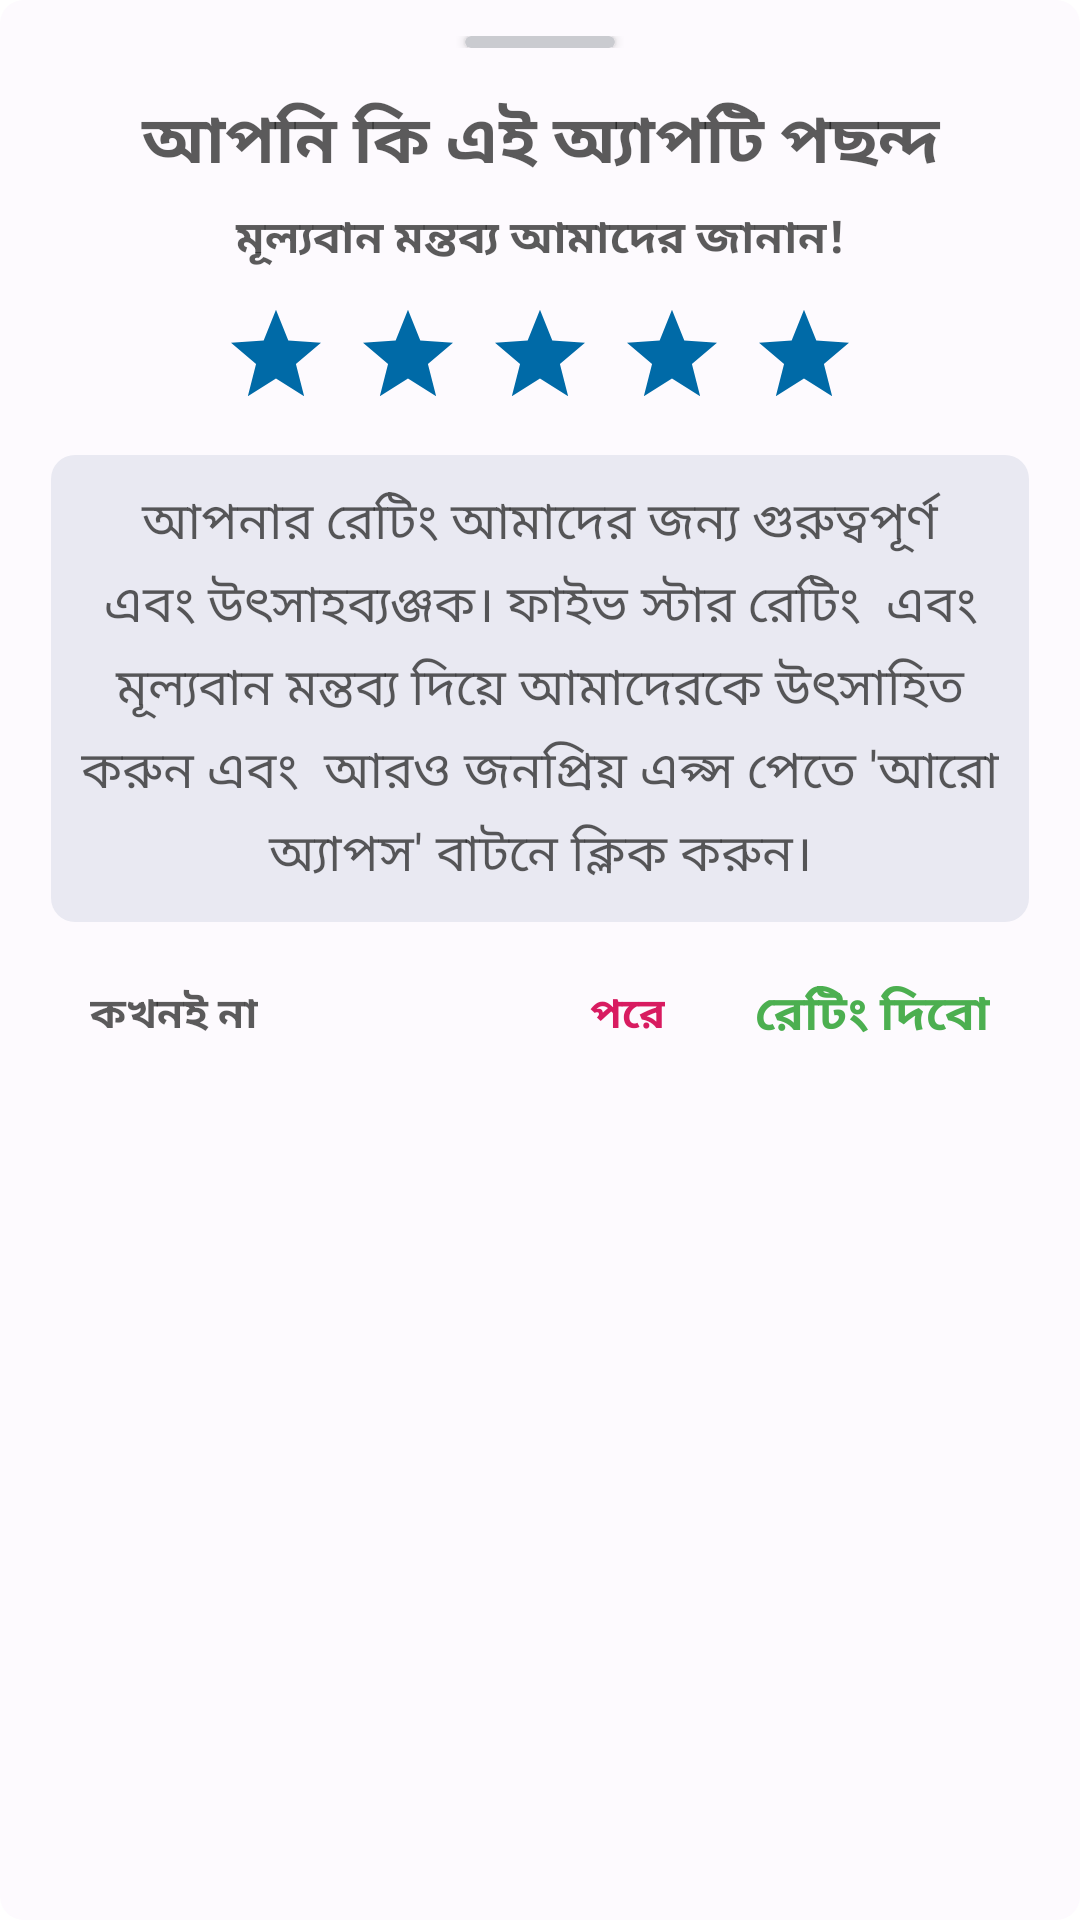

Locate icon controls on the screen. Image size 1080x1920, boxes as detection(x1, y1, x2, y2).
rateing star: detection(231, 310, 321, 396), detection(363, 310, 453, 396), detection(495, 310, 585, 396), detection(627, 310, 717, 396), detection(759, 310, 849, 396)
